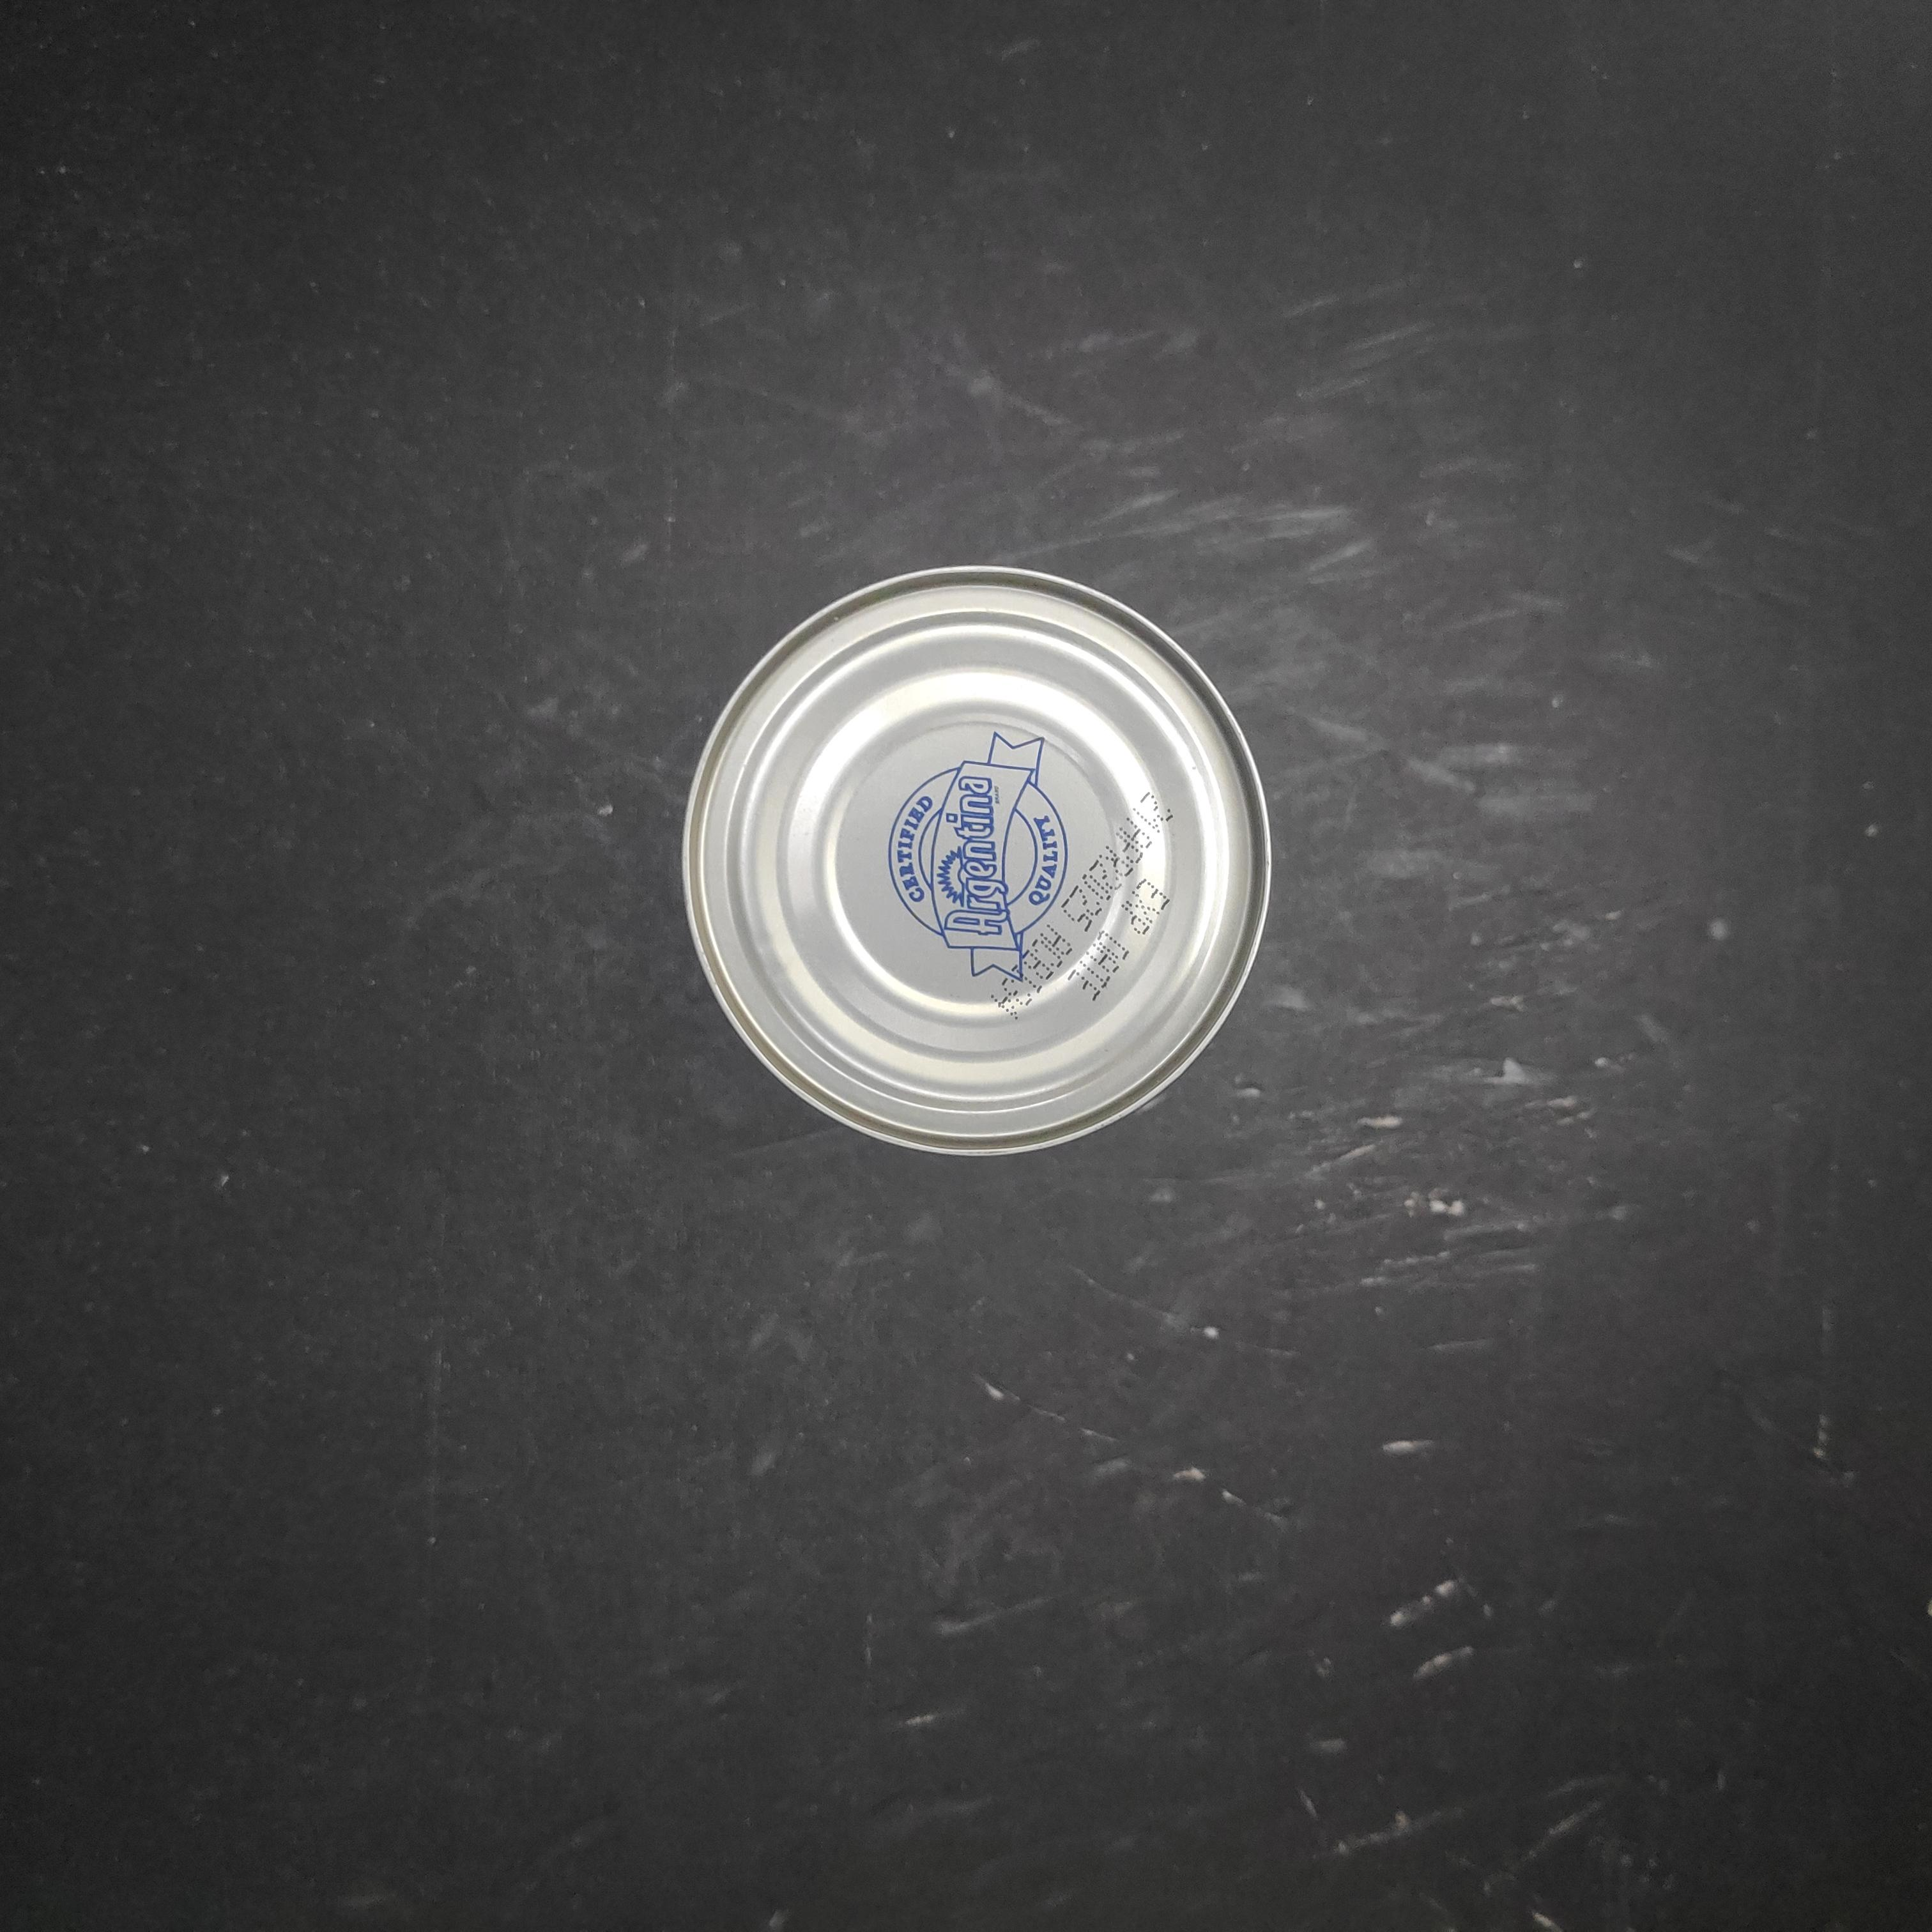No defect: (761, 665, 1375, 1286)
